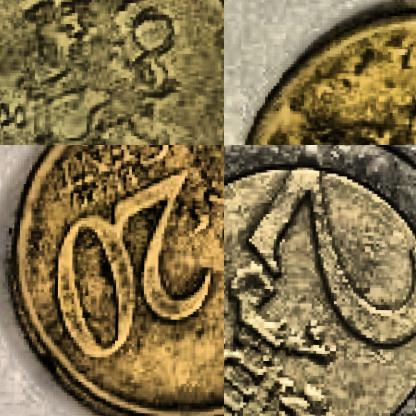coin: (12, 145, 223, 415), (224, 145, 415, 415), (0, 0, 223, 144), (227, 8, 415, 144)
